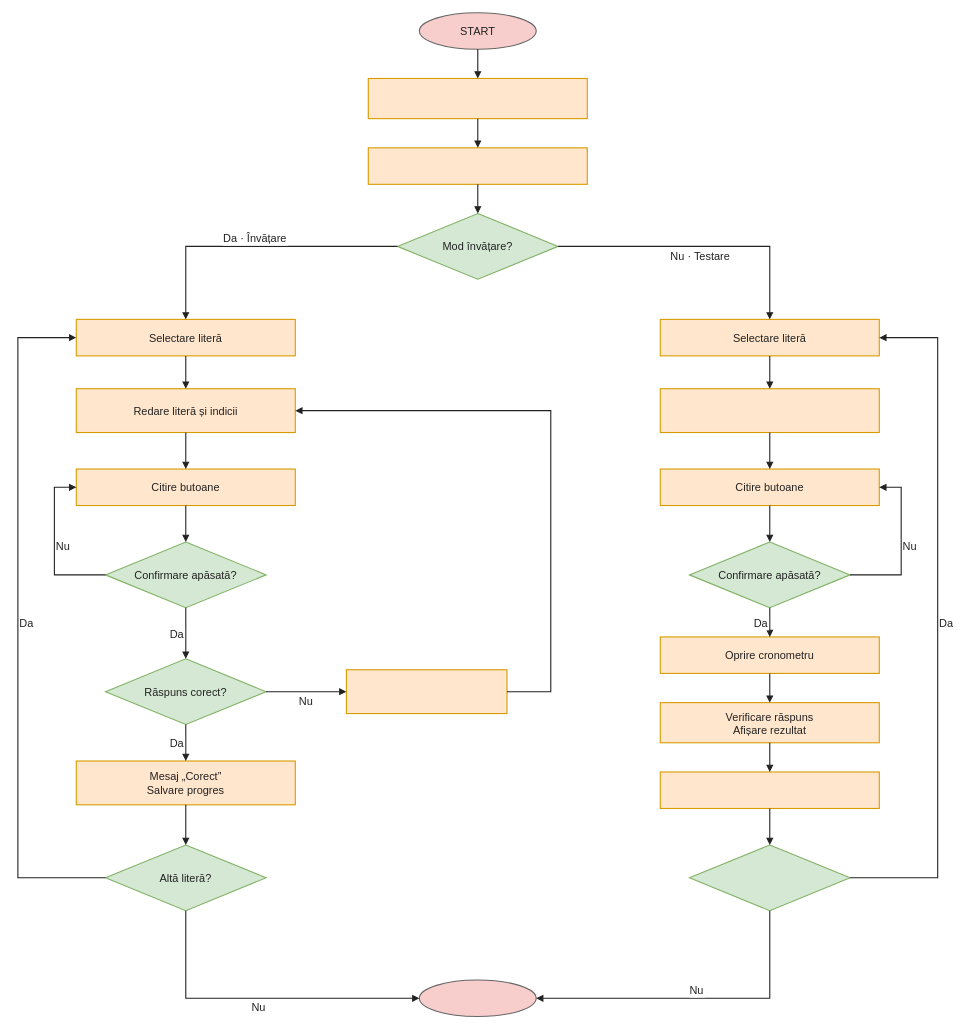
Image size: 967x1030. Some labels were removed from this diagram. Here are the shapes that lost their labels. From the top down, the centre of each, then its label:
At [477,98]: "Inițializare module Citire progres".
At [477,166]: "Alegere mod".
At [769,410]: "Redare literă Pornire cronometru".
At [426,691]: "Mesaj „Greșit” Explicare soluție".
At [769,790]: "Salvare scor și timp".
At [769,877]: "Alt exercițiu?".
At [477,998]: "STOP".
